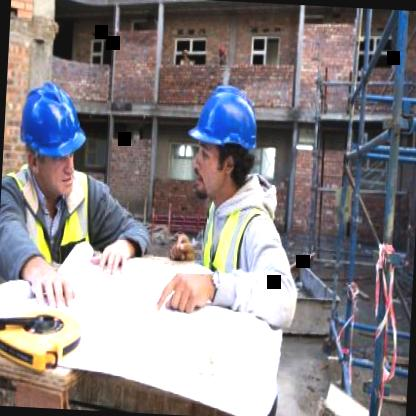helmet: (181, 74, 269, 208), (11, 74, 96, 197)
